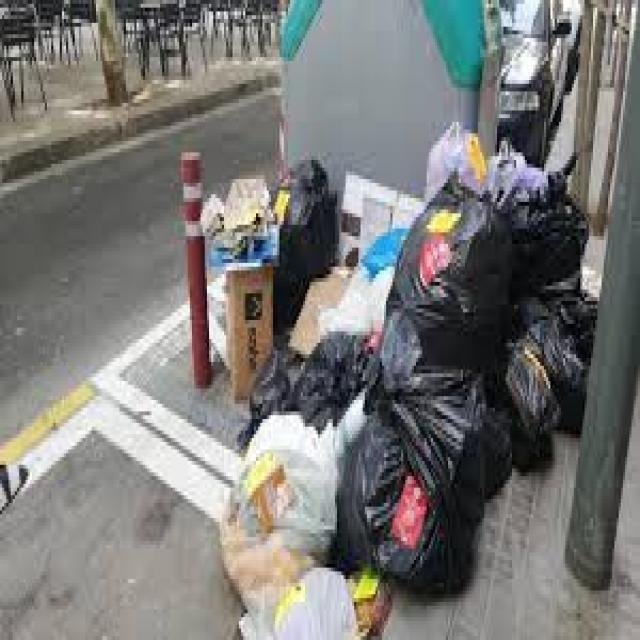high trash: (204, 124, 596, 639)
